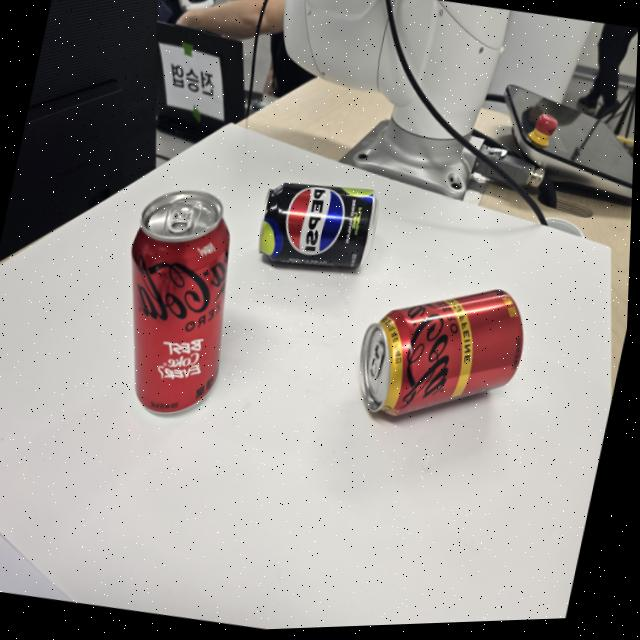can_coke_decaf: (358, 291, 525, 421)
can_coke_zero: (132, 189, 230, 422)
can_pepsi_zero: (256, 186, 383, 272)
